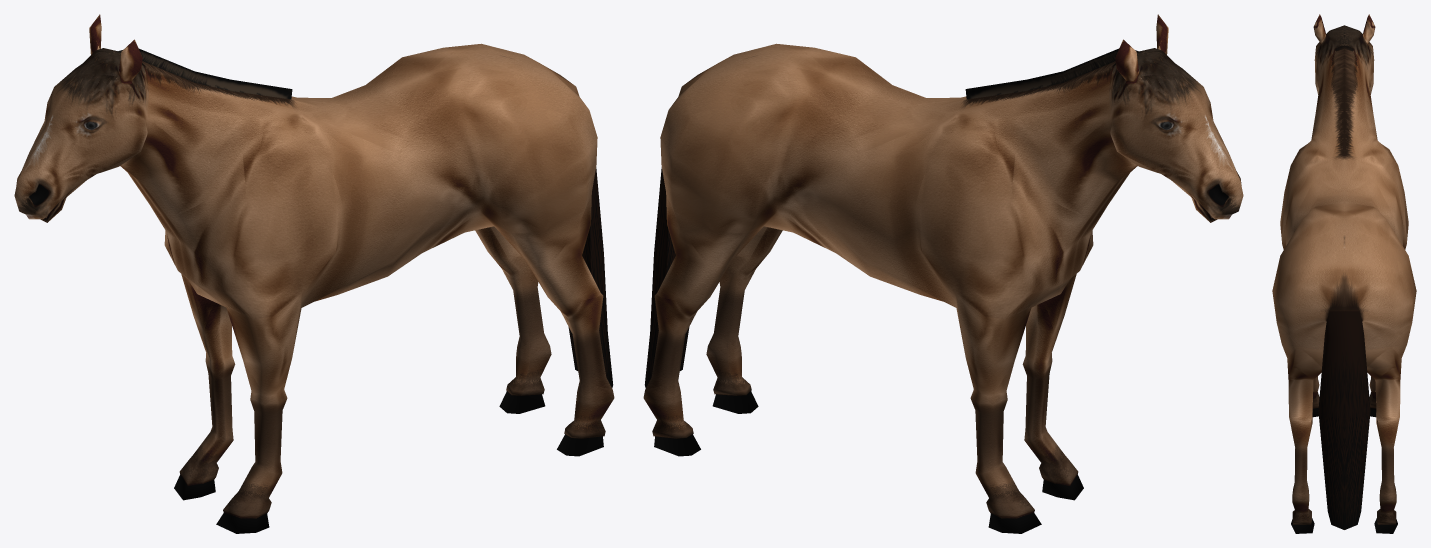
The model's file is horse2.obj.
3 renders of one model, left to right at view 1: azimuth 30°, elevation 25°; view 2: azimuth 150°, elevation 25°; view 3: azimuth 270°, elevation 25°, orthographic. The views are drawn at different scales.
Visible parts, largest first — view 1: Mesh; view 2: Mesh; view 3: Mesh.
Part boxes in pixels (left/top/right/bottom): Mesh: left=14, top=14, right=614, bottom=533; Mesh: left=643, top=14, right=1243, bottom=533; Mesh: left=1272, top=14, right=1416, bottom=533.
Bounding box in the file's own units: 7.3 × 5.9 × 2.13.
